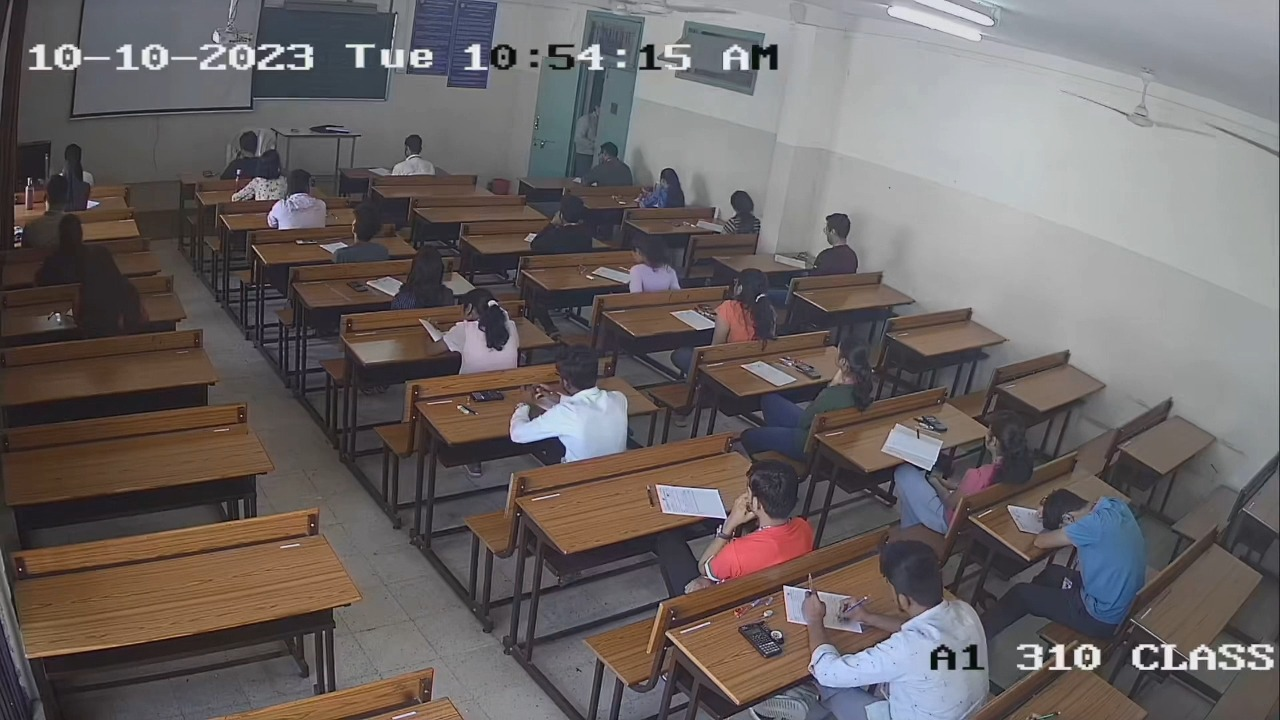cell-phones: (736, 615, 781, 661), (470, 386, 504, 406), (793, 360, 821, 379), (922, 415, 948, 434), (696, 301, 717, 320), (346, 279, 368, 293)
person: (808, 540, 989, 719), (501, 346, 633, 459), (895, 420, 1030, 522), (742, 333, 874, 424), (703, 267, 776, 347), (389, 246, 459, 308)
